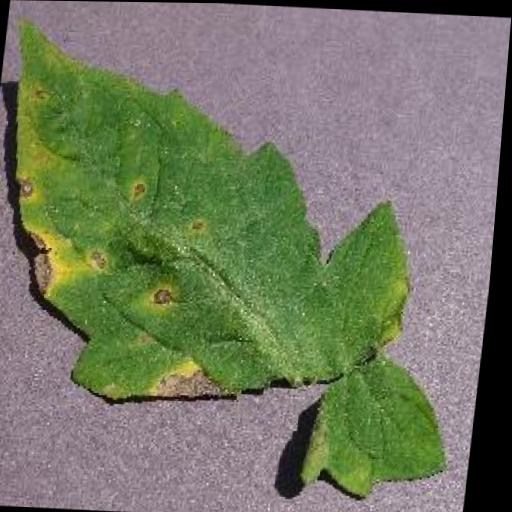Septoria: (0, 4, 498, 503)
